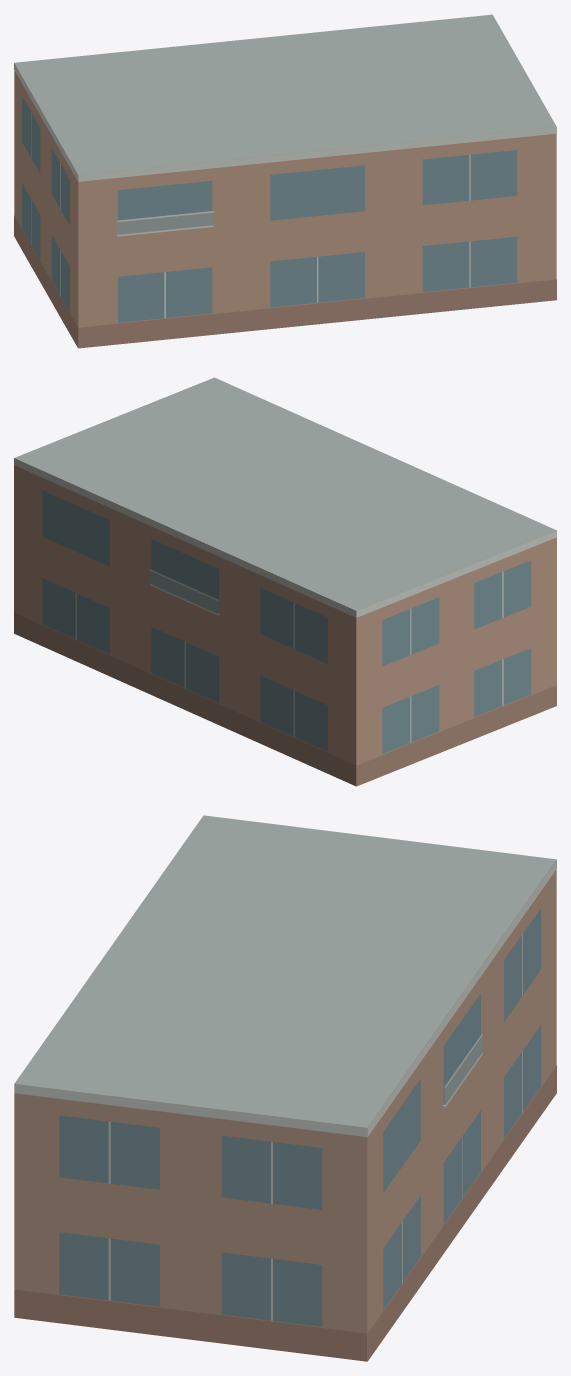
Rendered from survey-upis-32907822.glb.
3 views of the same model, one above another, from view 1: azimuth 30°, elevation 25°; view 2: azimuth 150°, elevation 25°; view 3: azimuth 270°, elevation 25° (orthographic). The views are drawn at different scales.
Visible parts, largest first — view 1: survey-upis-32907822.tmp; view 2: survey-upis-32907822.tmp; view 3: survey-upis-32907822.tmp.
Boxes of the visible parts, x1,y1,x2,y2 form: survey-upis-32907822.tmp: [14, 14, 556, 348]; survey-upis-32907822.tmp: [14, 377, 556, 786]; survey-upis-32907822.tmp: [14, 815, 556, 1361].
Bounding box in the file's own units: 17.51 × 6.1 × 12.85.
